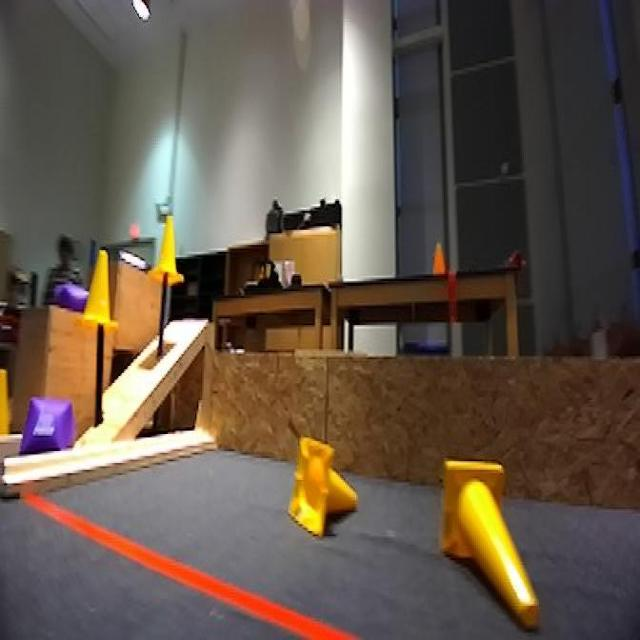frc_cone: (439, 450, 546, 634), (288, 438, 355, 540), (83, 245, 118, 337), (150, 211, 186, 296), (0, 369, 12, 442)
frc_cube: (21, 397, 75, 461), (45, 279, 95, 315)
